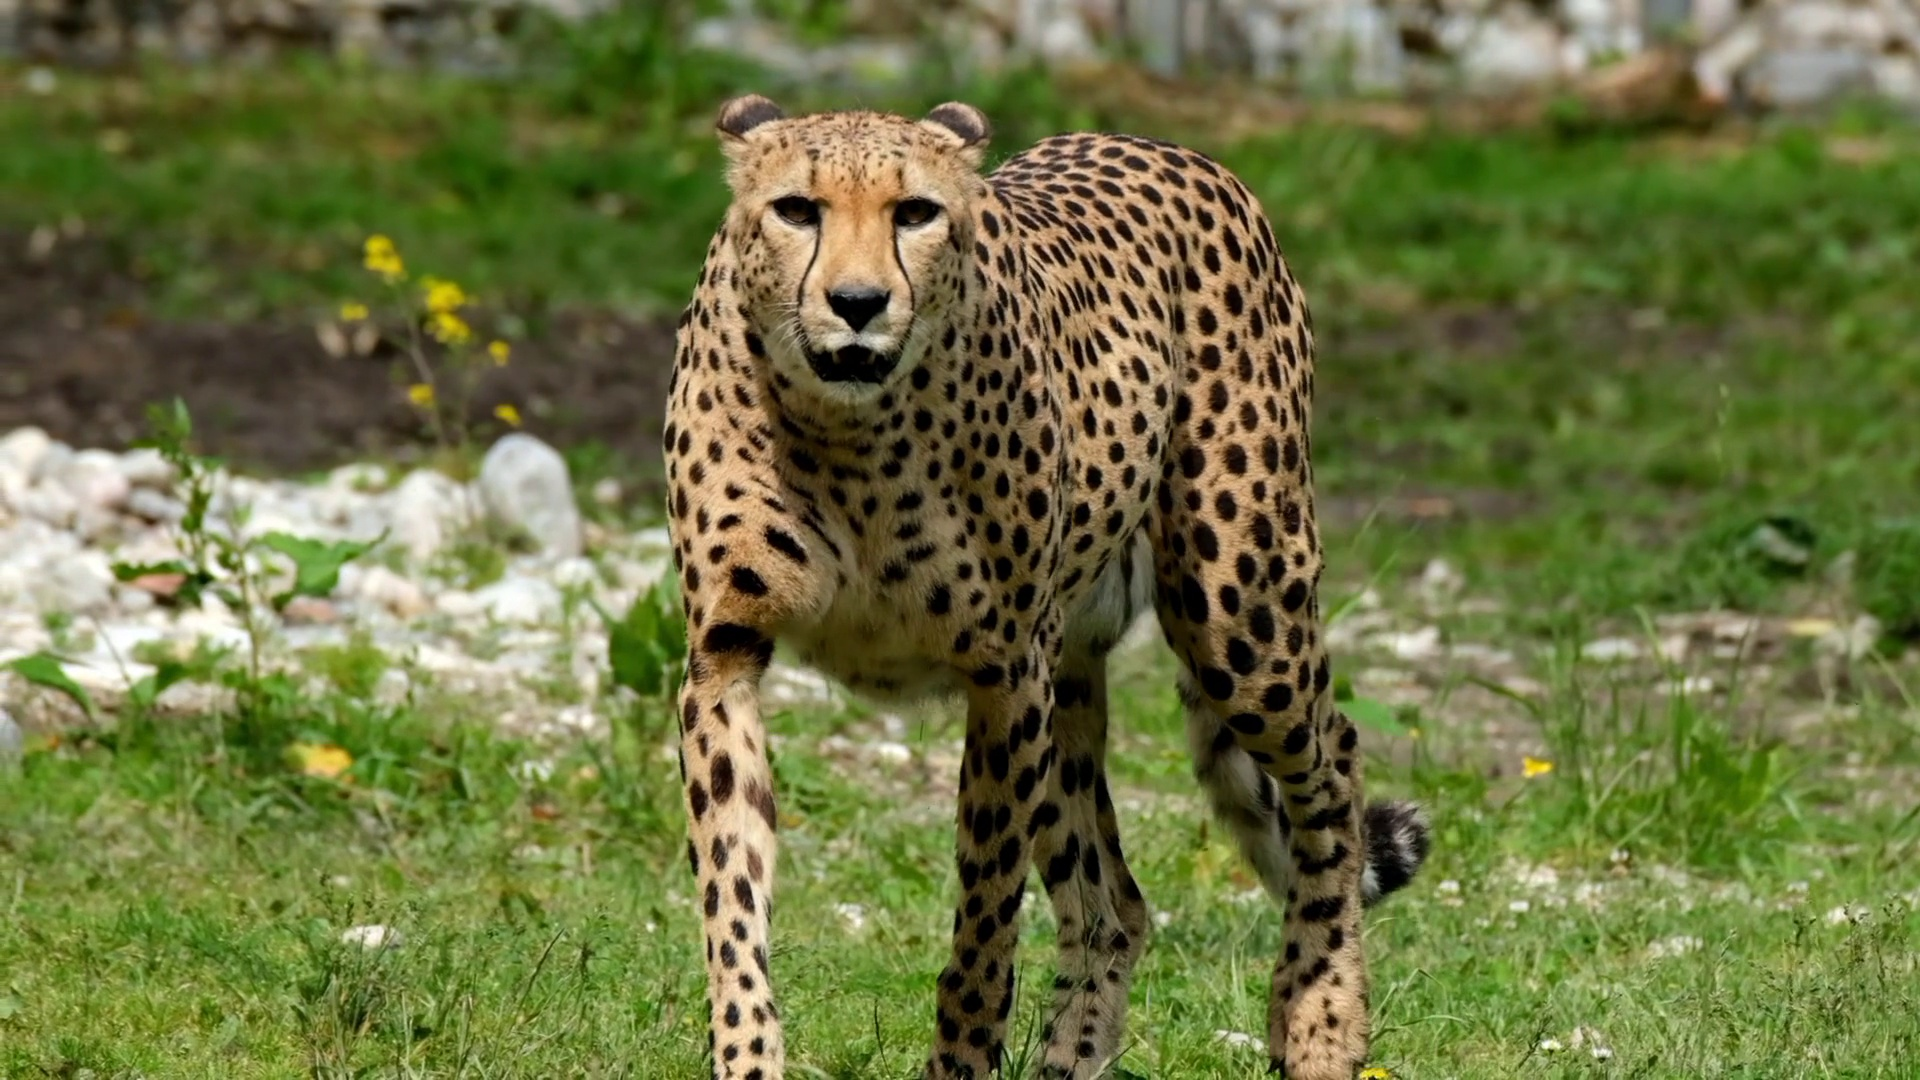Cheetah: (651, 88, 1439, 1080)
